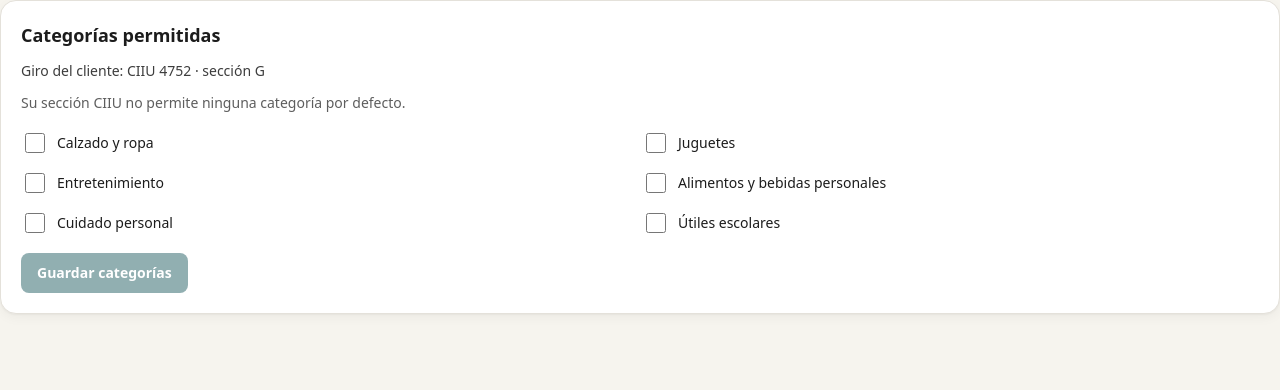
<CategoriasCliente /> · permitir y quitar (CA-1) › 409 version_cambiada: mensaje en español (sin el código) y las casillas conservan lo elegido
Step 1. Click the checkbox labelled "Juguetes" → point(656, 143), box [646,133,666,153]
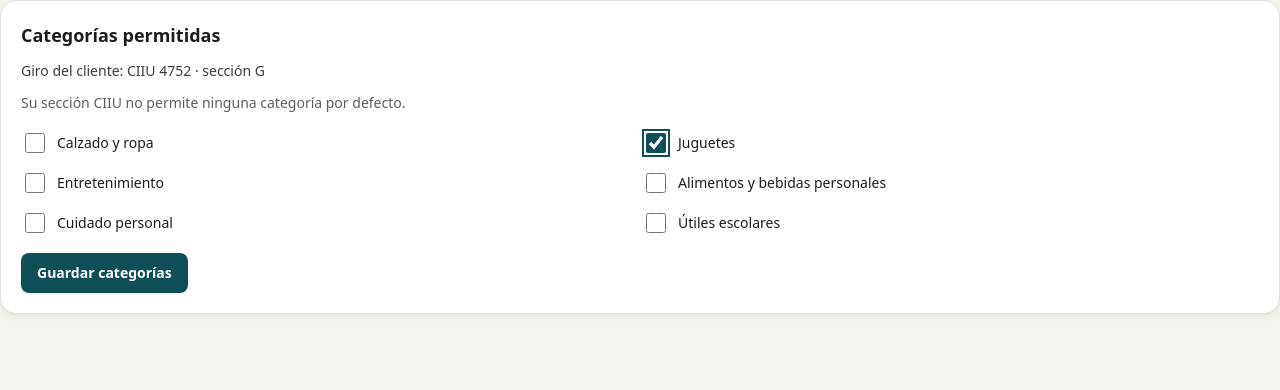
Step 2. Click the button "Guardar categorías" → point(104, 273), box [21,253,188,293]
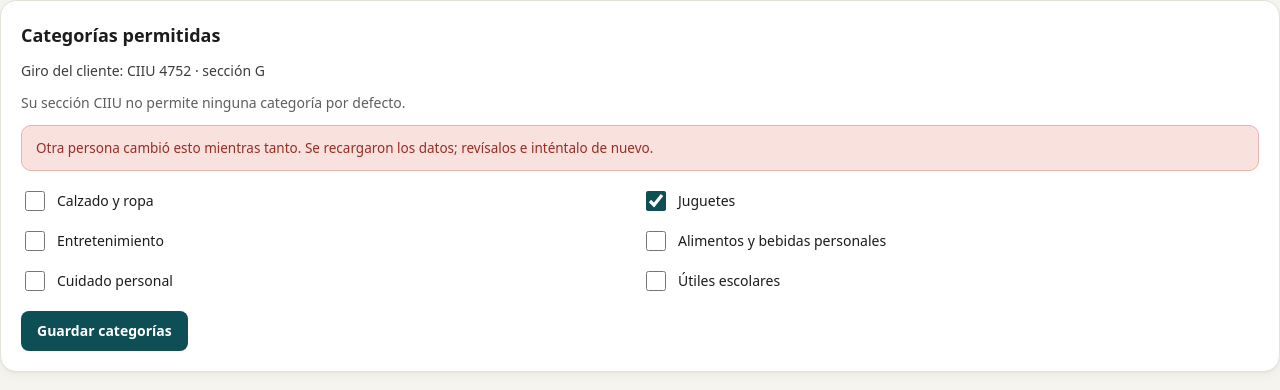
Check: the message shows "Otra persona cambió esto mientras tanto. Se recargaron los datos; revísalos e inténtalo de nuevo.", box [36,139,653,157]
